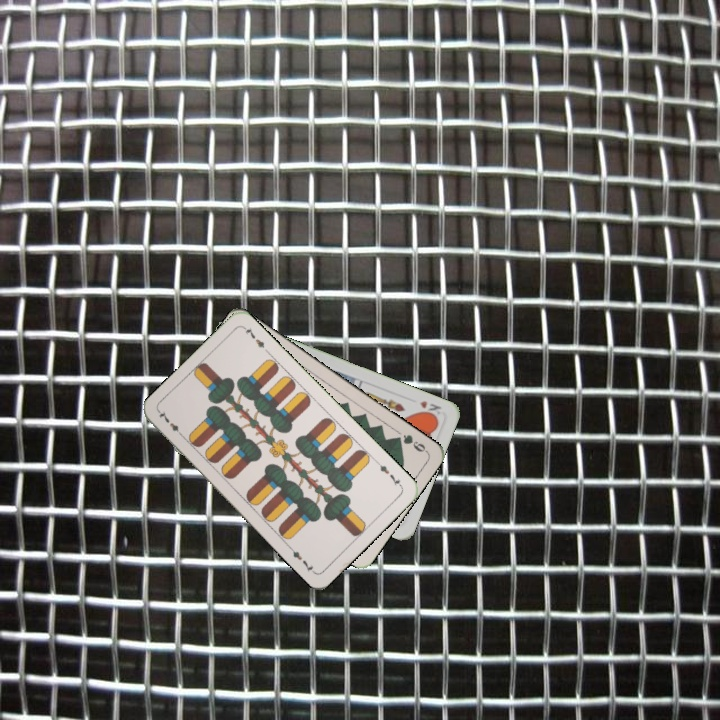E7: (373, 457, 405, 490), (155, 407, 187, 440)
G9: (390, 430, 430, 455)
HK: (415, 396, 444, 420)
